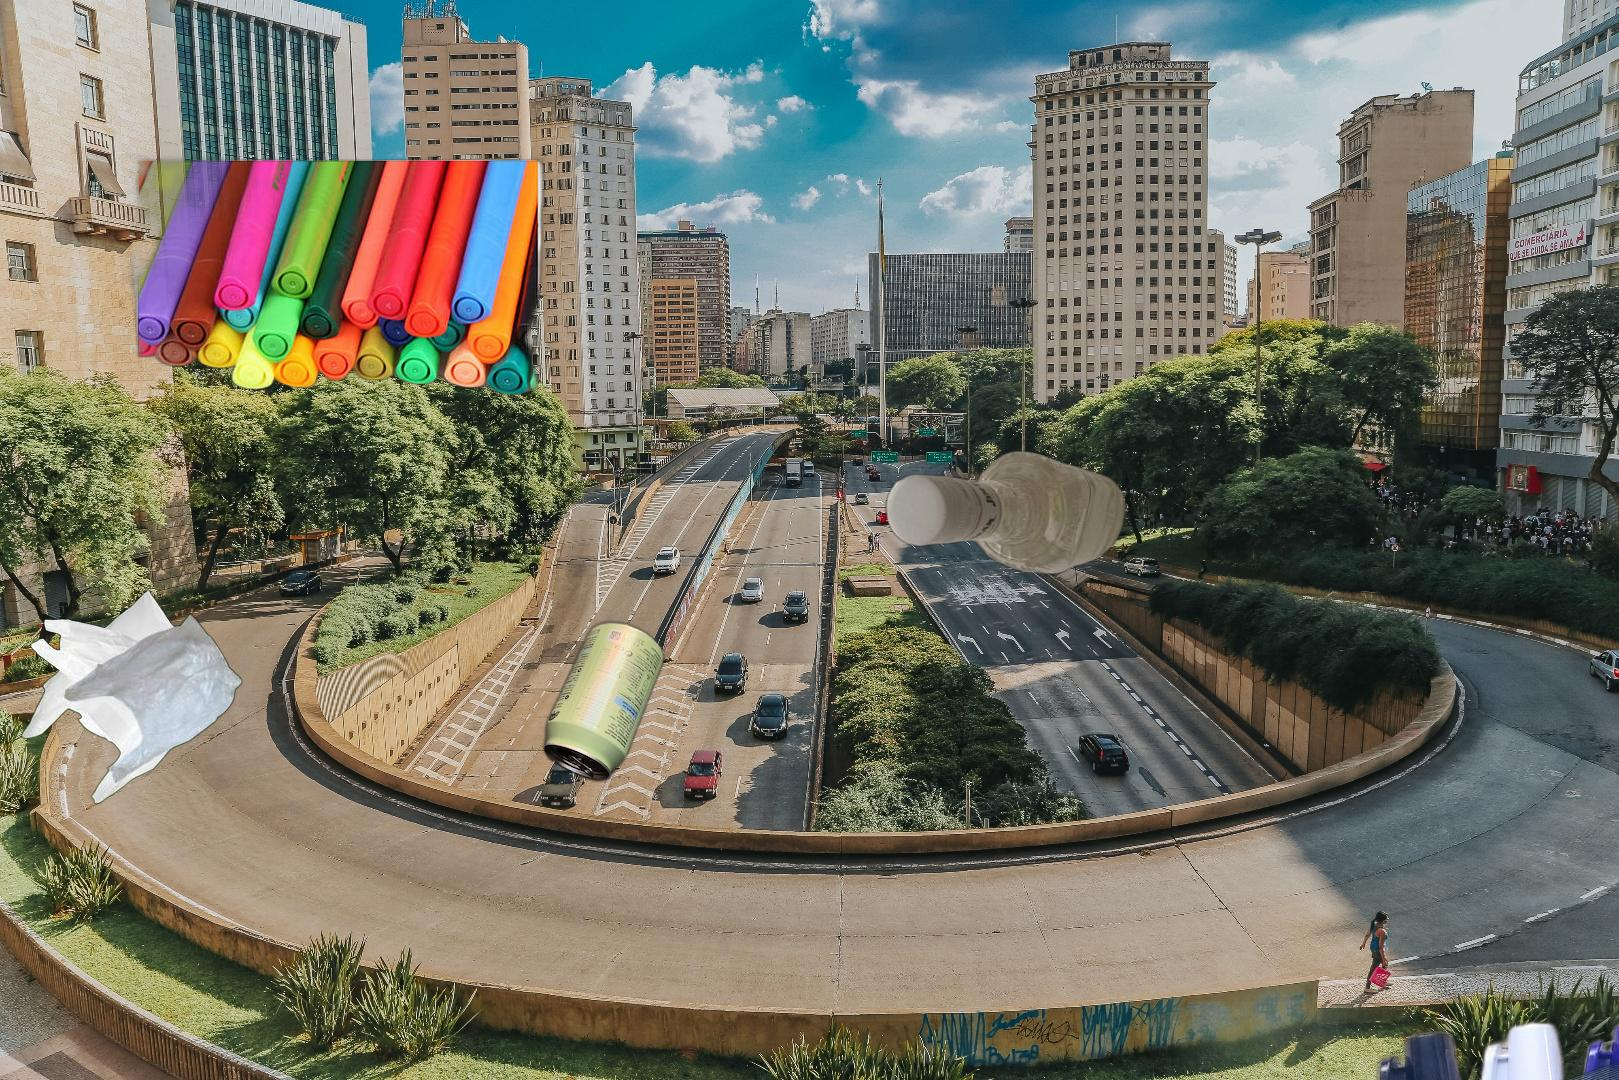clothes: (1384, 1079, 1619, 1080)
glass: (882, 449, 1131, 577)
metal-cans: (539, 615, 668, 786)
penholder: (115, 139, 549, 398), (1368, 1007, 1619, 1080)
plastic-bag: (19, 588, 245, 807)
plastic-bottles: (1458, 965, 1619, 1080)
shoes: (1394, 906, 1619, 1080)
